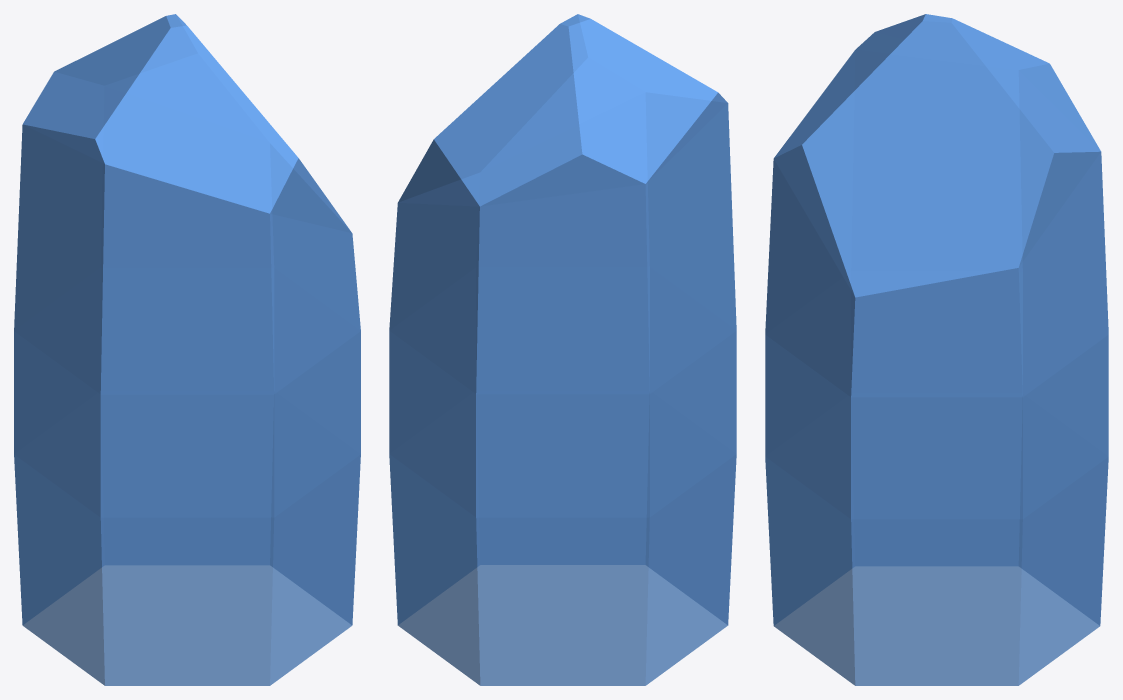
File: Crystal_m_11.fbx
The picture shows the model from 3 angles, left to right: view 1: azimuth 30°, elevation 25°; view 2: azimuth 150°, elevation 25°; view 3: azimuth 270°, elevation 25°; orthographic projection.
Visible parts, largest first — view 1: Crystal_m_11; view 2: Crystal_m_11; view 3: Crystal_m_11.
Boxes of the visible parts, x1,y1,x2,y2 form: Crystal_m_11: (14, 14, 360, 685); Crystal_m_11: (389, 14, 736, 685); Crystal_m_11: (765, 14, 1108, 685).
Size of the model in its own units: 85.03 by 190 by 98.18.
